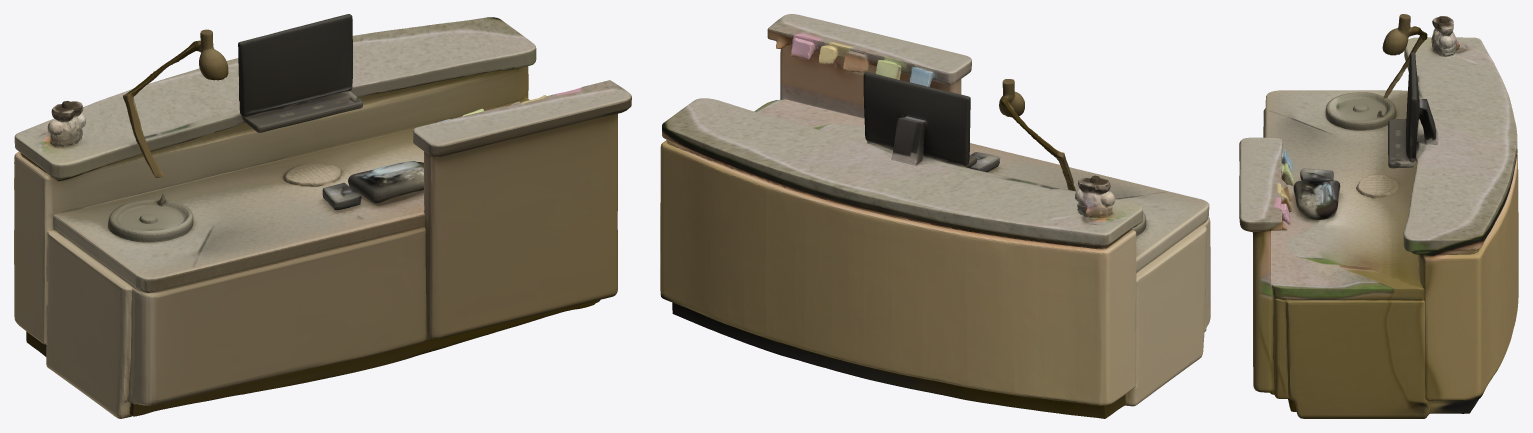
Rendered from reception_desk.glb.
3 renders of one model, left to right at view 1: azimuth 30°, elevation 25°; view 2: azimuth 150°, elevation 25°; view 3: azimuth 270°, elevation 25°, orthographic. The views are drawn at different scales.
Visible parts, largest first — view 1: geometry_0; view 2: geometry_0; view 3: geometry_0.
Part boxes in pixels (<box>): geometry_0: <box>14,14,631,418</box>; geometry_0: <box>660,14,1210,418</box>; geometry_0: <box>1239,14,1518,418</box>.
Bounding box in the file's own units: 1 × 0.6086 × 0.5811.
1 material, 1 textured.
